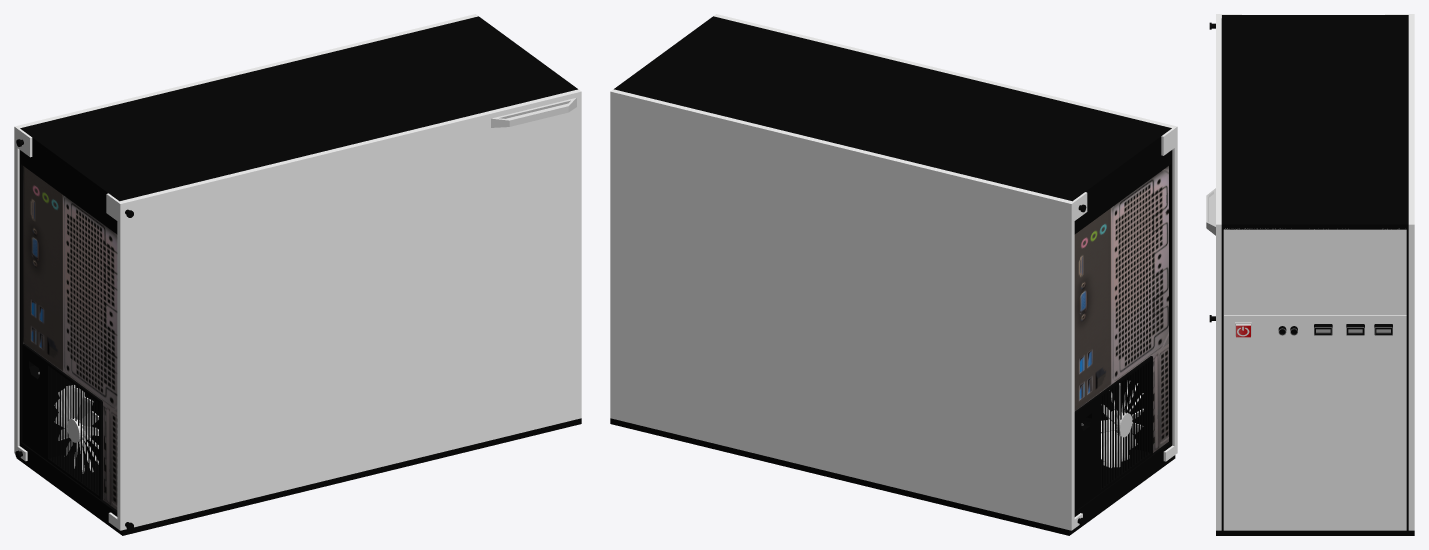
The model's file is case2 2.fbx.
3 views of the same model, side by side, from view 1: azimuth 30°, elevation 25°; view 2: azimuth 150°, elevation 25°; view 3: azimuth 270°, elevation 25° (orthographic). The views are drawn at different scales.
Parts seen in each view (by area): view 1: right, Plane, Back.001, power, left, powerfan; view 2: left, Plane, Back.001, power, right, powerfan; view 3: frontglass, Plane, left, right.
Boxes of the visible parts, <box> form: right: <box>106,89,581,530</box>; Plane: <box>16,16,581,535</box>; Back.001: <box>23,166,117,509</box>; power: <box>22,344,102,499</box>; left: <box>14,14,478,461</box>; powerfan: <box>54,385,98,473</box>; left: <box>610,89,1087,530</box>; Plane: <box>610,16,1175,535</box>; Back.001: <box>1074,166,1168,452</box>; power: <box>1074,356,1152,511</box>; right: <box>713,14,1177,461</box>; powerfan: <box>1101,380,1143,467</box>; frontglass: <box>1223,228,1406,530</box>; Plane: <box>1216,15,1414,535</box>; left: <box>1385,14,1414,530</box>; right: <box>1206,14,1241,530</box>.
Bounding box in the file's own units: 25.83 × 17.3 × 10.48.
